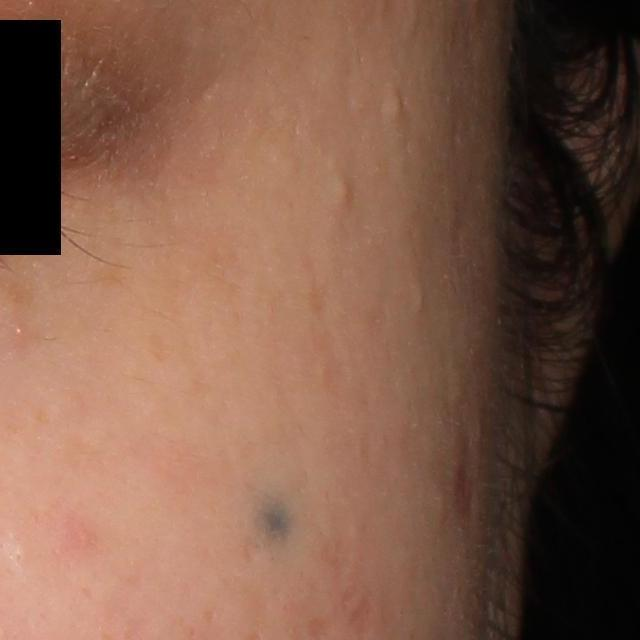comedo: (382, 91, 405, 123), (411, 282, 430, 315), (333, 178, 353, 205)
melasma: (92, 259, 127, 290)
nevus: (250, 488, 292, 544)
